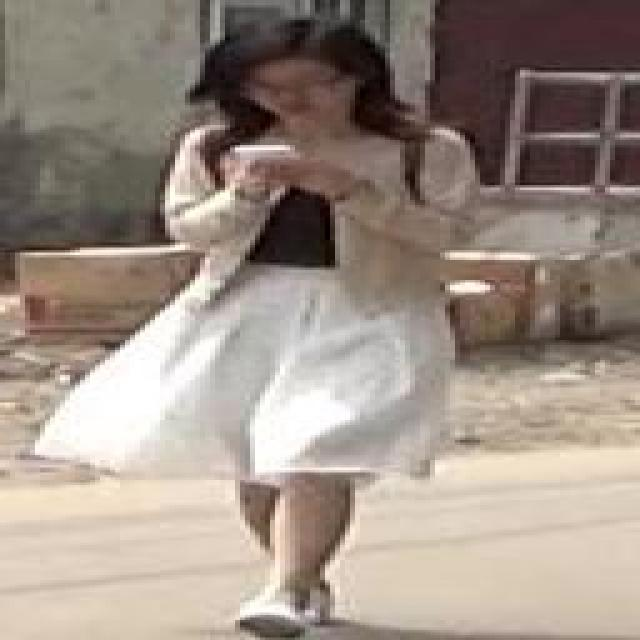adult: (78, 20, 511, 640)
